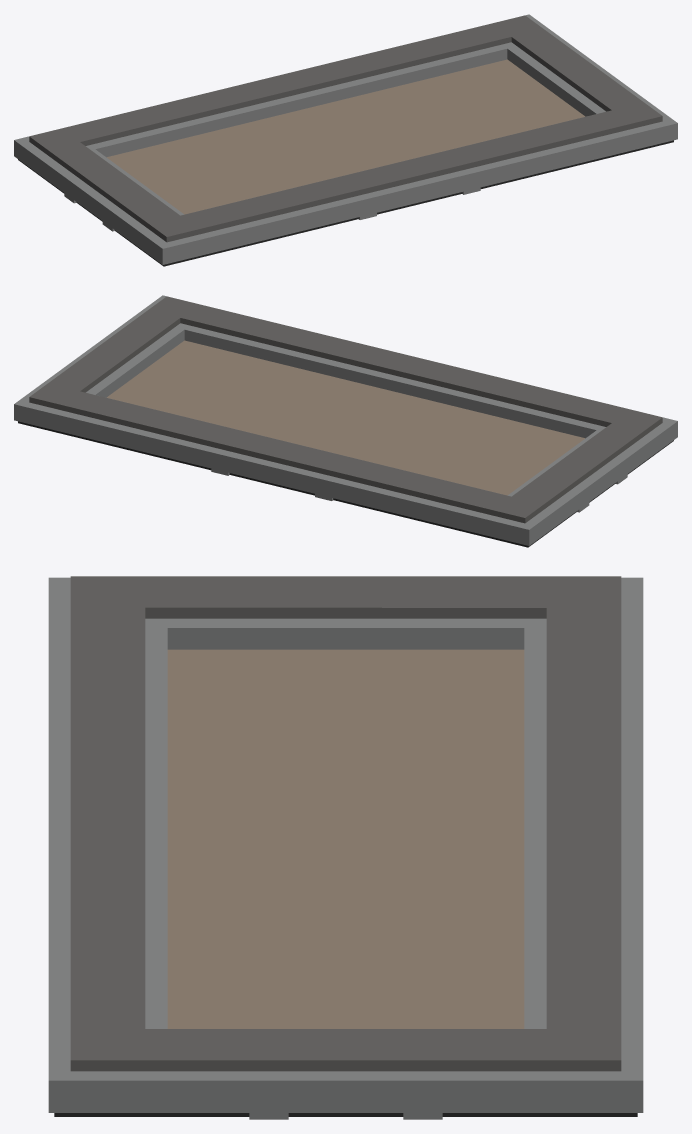
File: Building_D_03.FBX
3 renders of one model, top to bottom at view 1: azimuth 30°, elevation 25°; view 2: azimuth 150°, elevation 25°; view 3: azimuth 270°, elevation 25°, orthographic. The views are drawn at different scales.
Parts seen in each view (by area): view 1: Building_D_03; view 2: Building_D_03; view 3: Building_D_03.
Boxes of the visible parts, x1,y1,x2,y2 form: Building_D_03: (14,14,677,266); Building_D_03: (14,295,677,547); Building_D_03: (48,576,643,1119).
Size of the model in its own units: 10 by 0.4615 by 5.
